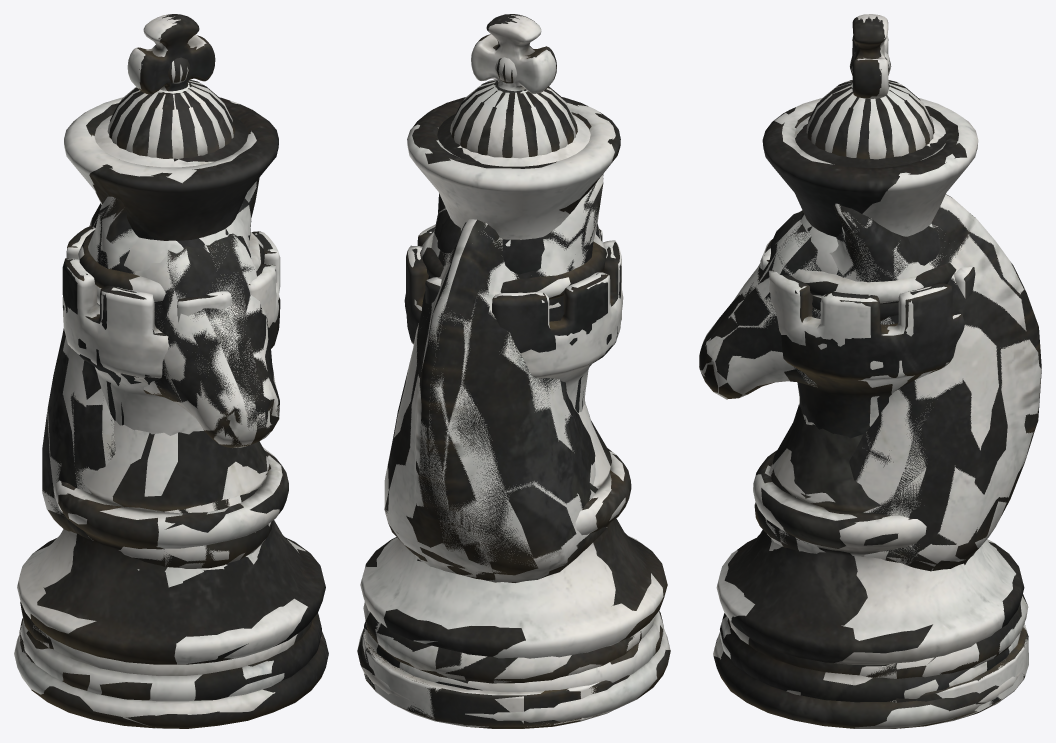
The model's file is marble.glb.
3 renders of one model, left to right at view 1: azimuth 30°, elevation 25°; view 2: azimuth 150°, elevation 25°; view 3: azimuth 270°, elevation 25°, orthographic.
Parts seen in each view (by area): view 1: dark_queen, light_queen, dark_knight, light_knight, light_rook, light_king, dark_king, dark_rook, light_bishop; view 2: dark_knight, light_queen, light_knight, dark_queen, light_king, dark_rook, light_rook, dark_bishop, dark_king; view 3: dark_queen, light_queen, light_knight, dark_knight, dark_rook, dark_king, light_rook, light_king, light_bishop, dark_bishop.
Boxes of the visible parts, left/top/right/bottom form: dark_queen: left=26, top=57, right=325, bottom=700; light_queen: left=17, top=61, right=321, bottom=701; dark_knight: left=20, top=177, right=279, bottom=663; light_knight: left=19, top=181, right=279, bottom=662; light_rook: left=62, top=227, right=280, bottom=435; light_king: left=14, top=14, right=297, bottom=728; dark_king: left=31, top=14, right=328, bottom=728; dark_rook: left=62, top=226, right=280, bottom=425; light_bishop: left=124, top=82, right=249, bottom=271; dark_knight: left=364, top=174, right=641, bottom=728; light_queen: left=360, top=57, right=663, bottom=691; light_knight: left=362, top=175, right=641, bottom=728; dark_queen: left=364, top=58, right=667, bottom=690; light_king: left=357, top=15, right=670, bottom=722; dark_rook: left=404, top=227, right=621, bottom=412; light_rook: left=408, top=224, right=623, bottom=412; dark_bishop: left=437, top=82, right=544, bottom=274; dark_king: left=357, top=14, right=670, bottom=699; dark_queen: left=720, top=52, right=1024, bottom=702; light_queen: left=716, top=52, right=1020, bottom=698; light_knight: left=699, top=194, right=1041, bottom=728; dark_knight: left=699, top=194, right=1041, bottom=728; dark_rook: left=764, top=239, right=975, bottom=438; dark_king: left=713, top=16, right=998, bottom=728; light_rook: left=760, top=240, right=972, bottom=426; light_king: left=713, top=14, right=1024, bottom=728; light_bishop: left=800, top=83, right=932, bottom=274; dark_bishop: left=800, top=84, right=940, bottom=265.
Bounding box in the file's own units: 0.0297 × 0.068 × 0.0325.
2 materials, 2 textured.
